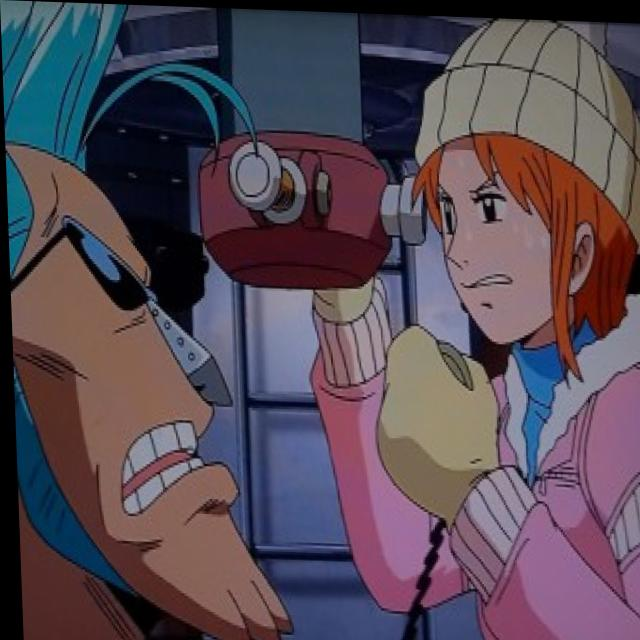Franky: (0, 0, 291, 640)
Nami: (397, 16, 640, 359)
